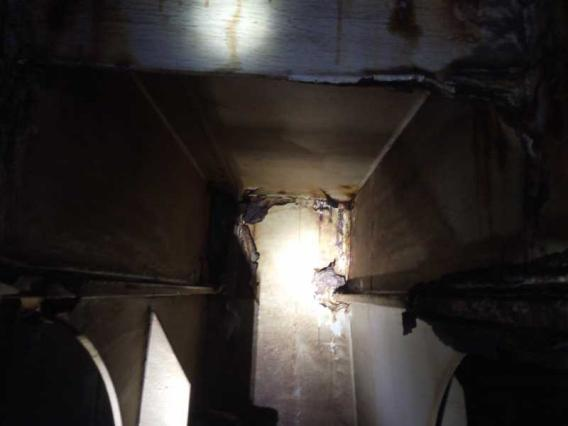corrosion: (228, 185, 298, 227), (211, 0, 250, 68), (311, 248, 353, 310), (308, 191, 354, 238), (446, 1, 499, 40), (380, 0, 428, 43), (325, 6, 350, 65), (228, 221, 260, 262)
